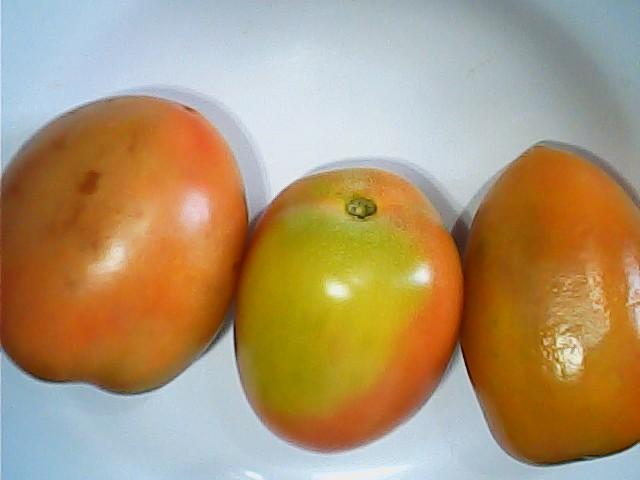verde: (1, 94, 246, 390), (233, 162, 465, 456), (460, 145, 640, 462)
